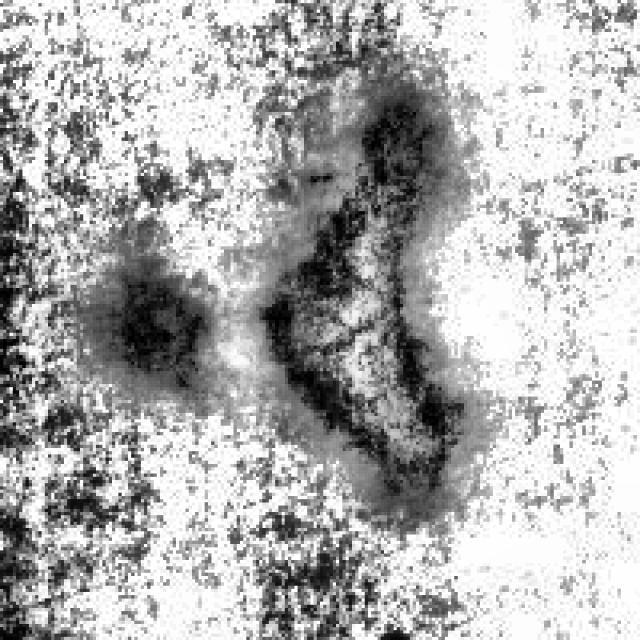Scratches: (247, 84, 470, 518), (80, 252, 218, 388)
